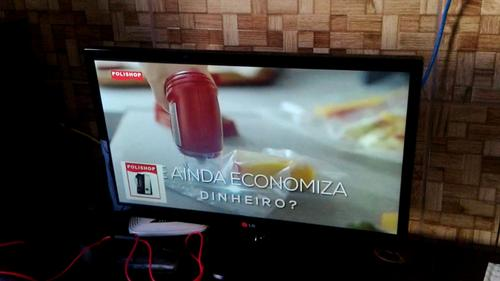Polishop #1: (121, 159, 168, 204)
